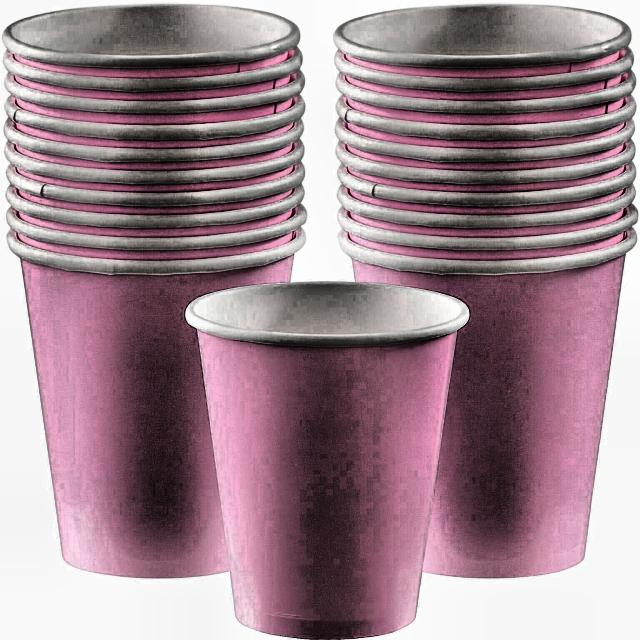Cup: (331, 0, 640, 586), (0, 0, 308, 583), (176, 274, 475, 640)
